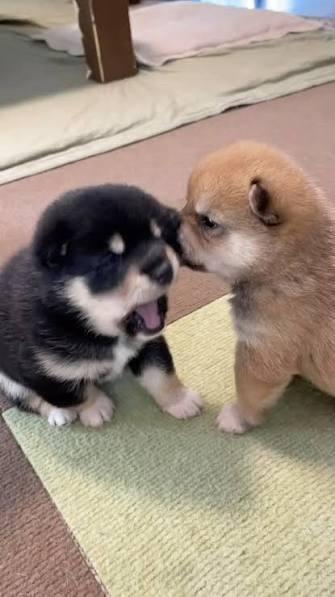puppy-dog: (0, 184, 203, 428), (176, 139, 335, 434)
